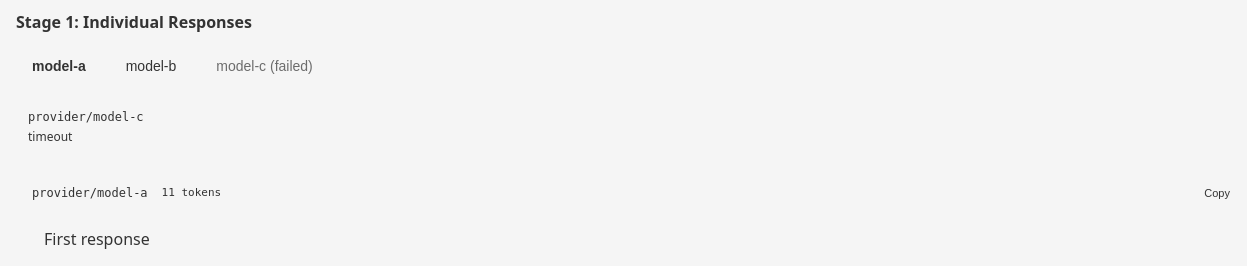
Test case: Stage1 › renders tabs, failed models, and switches active response
Expected: the button "model-a" is shown, [16, 50, 102, 82]
Expected: the button "model-c (failed)" is shown, [200, 50, 329, 82]
Click the button "model-b": x=151, y=66 [110, 50, 192, 82]
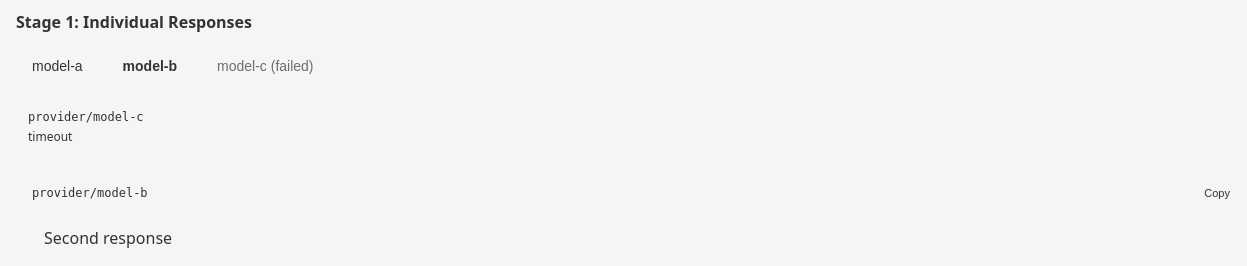
Expected: the text "Second response" is shown, [44, 227, 172, 249]
